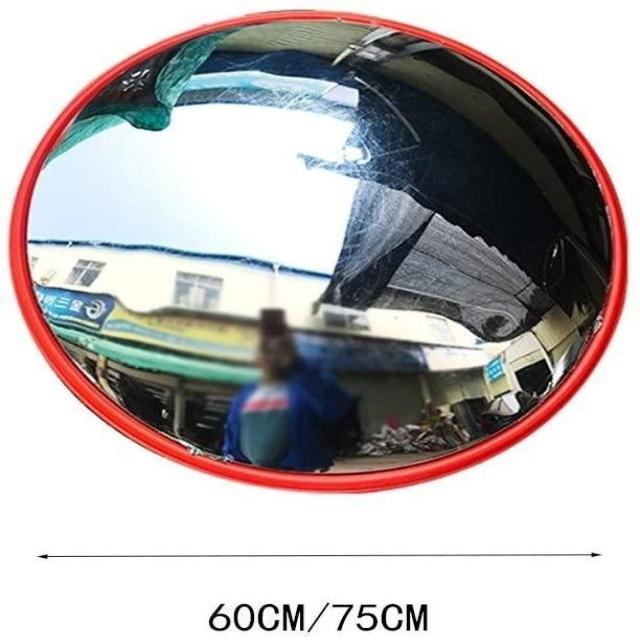other: (207, 130, 341, 262)
